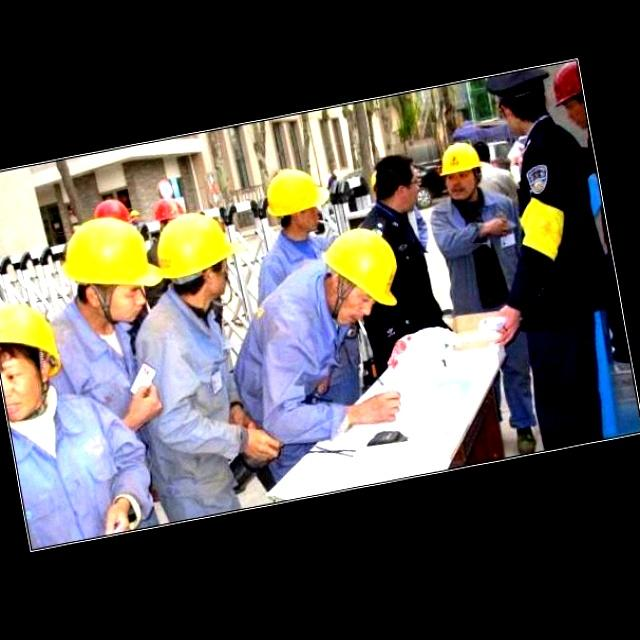helmet: (60, 213, 162, 290), (321, 228, 412, 314), (158, 216, 240, 280), (1, 294, 70, 366), (257, 166, 333, 222), (440, 142, 482, 178)
safety_vest: (143, 300, 260, 506), (4, 394, 155, 550), (242, 287, 344, 478), (49, 300, 154, 453), (251, 226, 316, 310)
